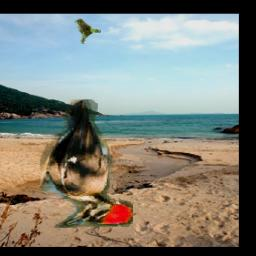Sparrow: (75, 18, 101, 44)
Woodpecker: (36, 100, 133, 229)
